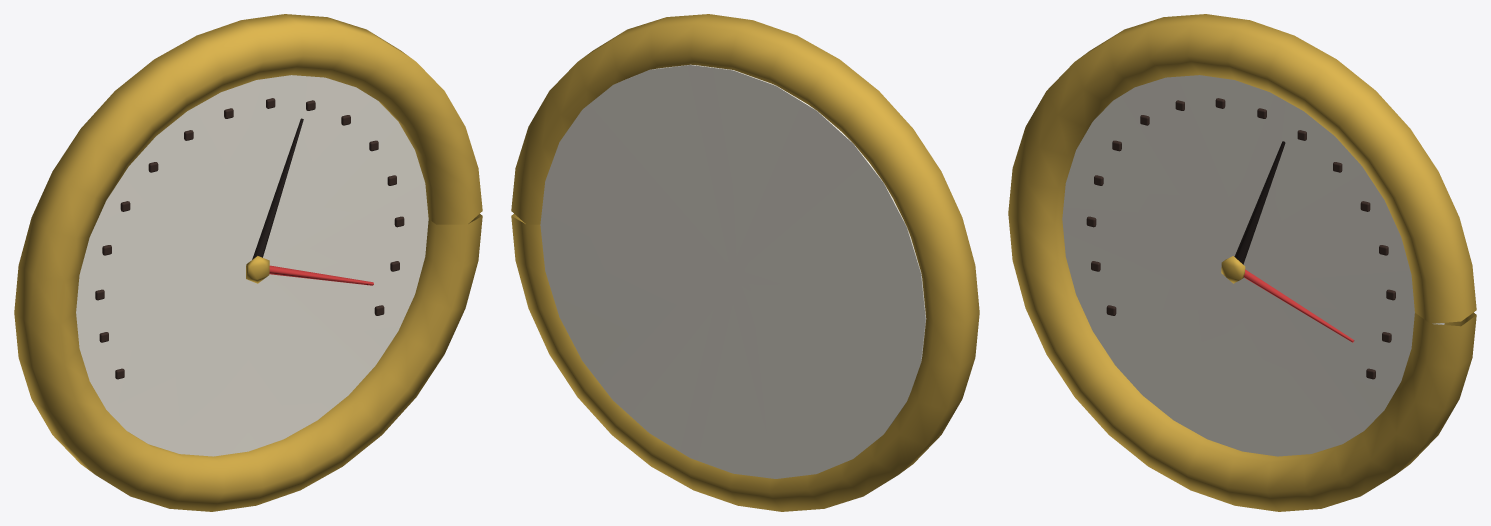
File: furn_lh_barometer.glb
The picture shows the model from 3 angles, left to right: view 1: azimuth 30°, elevation 25°; view 2: azimuth 150°, elevation 25°; view 3: azimuth 330°, elevation 25°; orthographic projection.
Visible parts, largest first — view 1: furn_lh_barometer_main, furn_lh_barometer_gloss; view 2: furn_lh_barometer_main, furn_lh_barometer_gloss; view 3: furn_lh_barometer_main, furn_lh_barometer_gloss.
Boxes of the visible parts, box(x1,y1,x2,y2) form: furn_lh_barometer_main: box(76, 75, 428, 456); furn_lh_barometer_gloss: box(14, 14, 482, 511); furn_lh_barometer_main: box(540, 64, 926, 478); furn_lh_barometer_gloss: box(511, 14, 979, 511); furn_lh_barometer_main: box(1062, 75, 1444, 456); furn_lh_barometer_gloss: box(1008, 14, 1476, 511).
Bounding box in the file's own units: 0.8464 × 0.8466 × 0.1.
